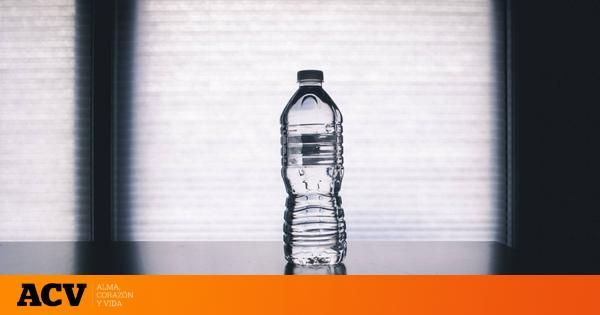paper: (278, 70, 346, 266)
